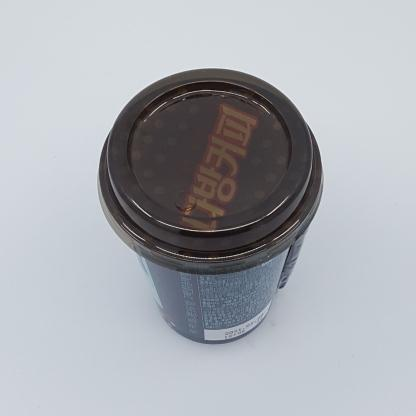----------: (97, 68, 323, 344)
